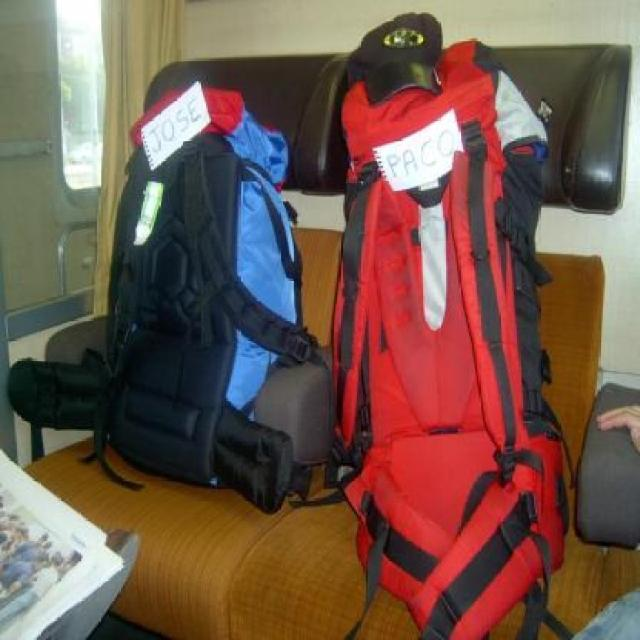backpack: (328, 32, 572, 640), (95, 81, 308, 514)
